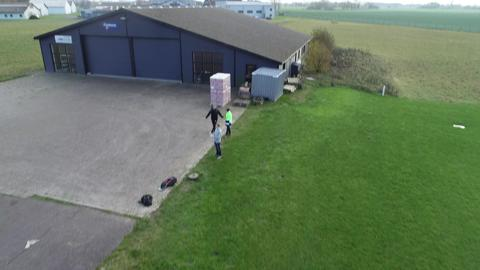RockwoolPallet: (210, 72, 232, 108)
